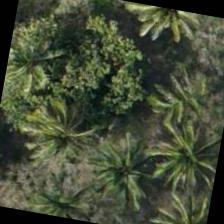Kelapa_Sawit: (13, 78, 117, 182), (75, 121, 180, 223), (137, 101, 223, 204), (0, 14, 83, 114), (12, 155, 111, 223), (142, 179, 212, 223)
